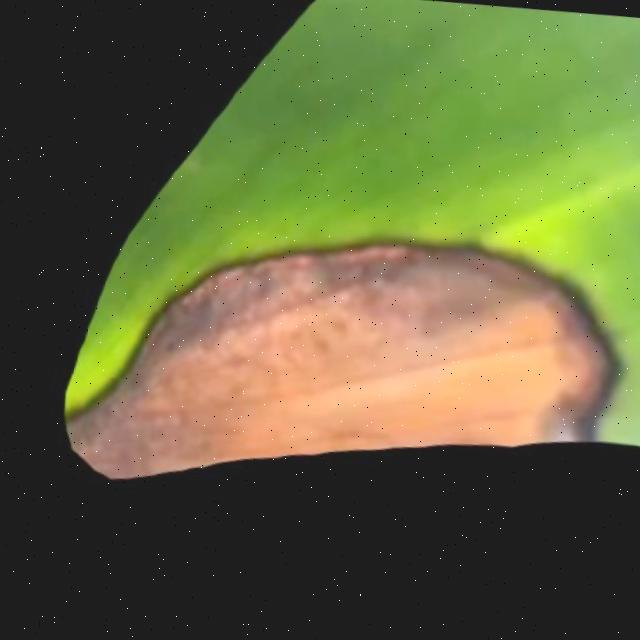mite: (436, 3, 640, 22), (8, 199, 28, 292), (7, 194, 21, 318), (9, 233, 21, 281)
sunburn: (56, 204, 632, 525)
